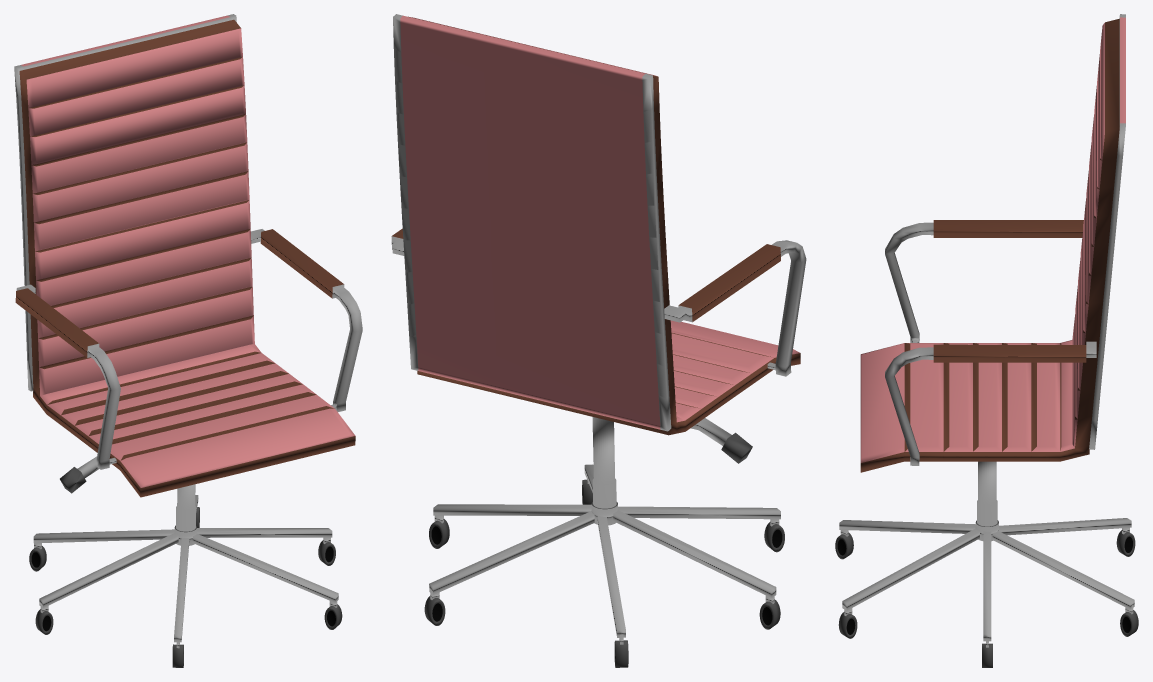
Rendered from OfficeChairReworked.glb.
3 views of the same model, side by side, from view 1: azimuth 30°, elevation 25°; view 2: azimuth 150°, elevation 25°; view 3: azimuth 270°, elevation 25° (orthographic). The views are drawn at different scales.
Visible parts, largest first — view 1: officeChair; view 2: officeChair; view 3: officeChair.
Part boxes in pixels (box(x1,y1,x2,y2)): officeChair: box(14, 14, 362, 667); officeChair: box(391, 14, 806, 667); officeChair: box(835, 14, 1138, 667).
Size of the model in its own units: 0.6156 by 1.02 by 0.5281.
2 materials, 2 textured.
